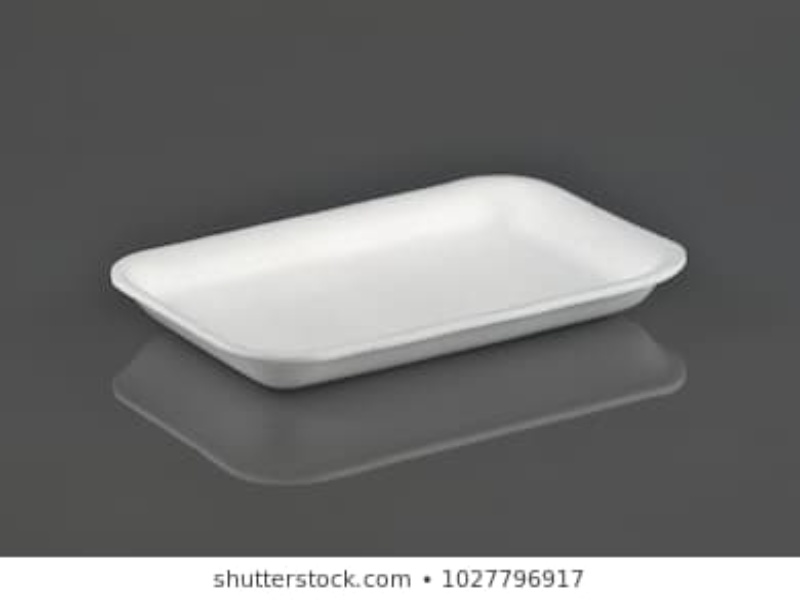plastic-tray: (104, 170, 693, 391)
